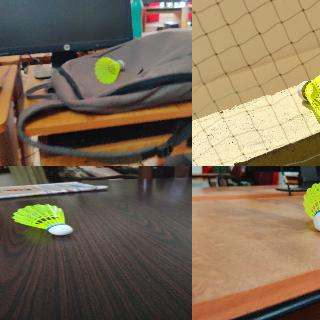shuttlecock: (12, 204, 73, 235), (296, 67, 319, 120), (302, 180, 319, 232), (94, 56, 124, 84)
